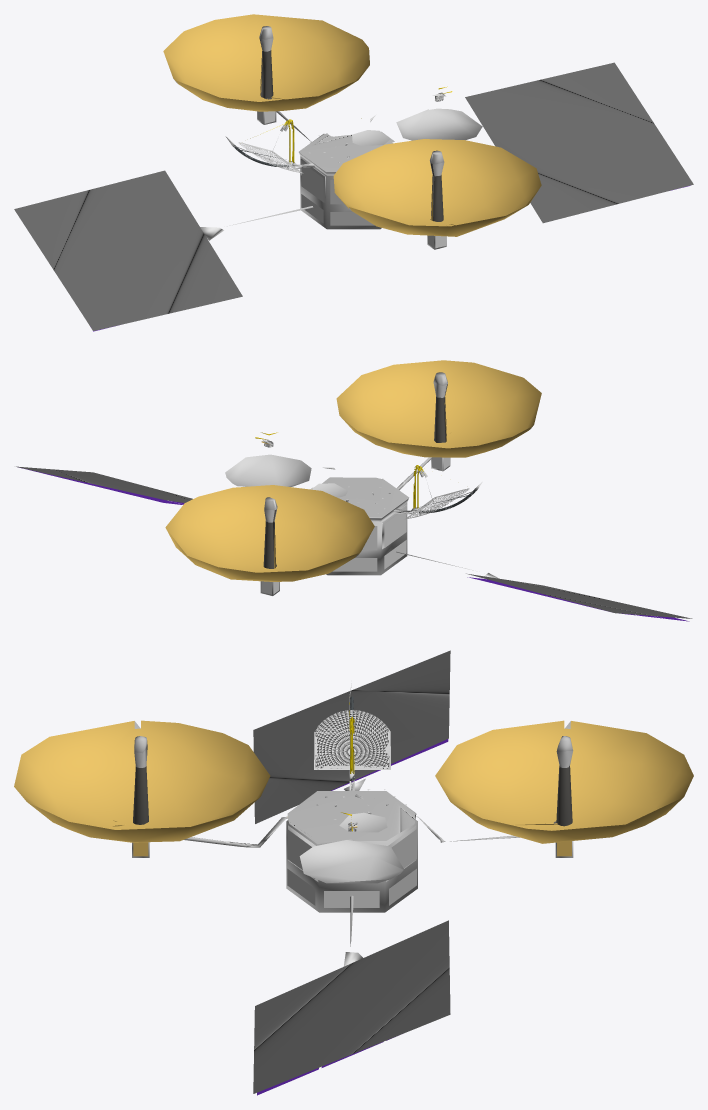
File: tracking-and-data-relay-satellites-trds-e.glb
3 views of the same model, one above another, from view 1: azimuth 30°, elevation 25°; view 2: azimuth 150°, elevation 25°; view 3: azimuth 270°, elevation 25° (orthographic). The views are drawn at different scales.
Parts seen in each view (by area): view 1: Fake; view 2: Fake; view 3: Fake.
Part boxes in pixels (x1,y1,x2,y2): Fake: (14,14,693,331); Fake: (16,360,692,621); Fake: (14,650,693,1095).
Bounding box in the file's own units: 94.44 × 21.24 × 74.48.
Materials: 1 (1 with a texture image).
